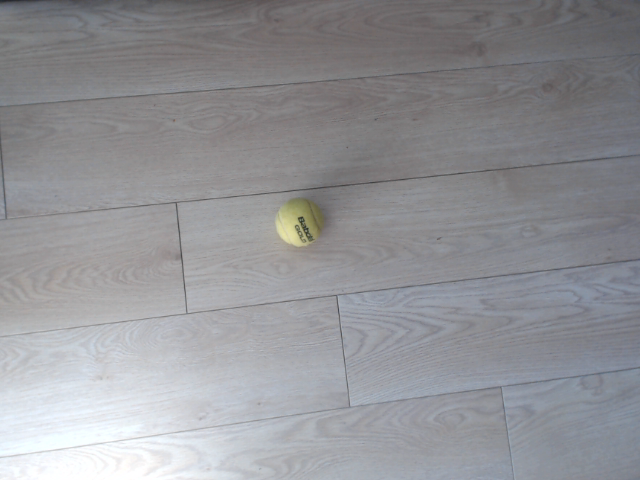ball: (274, 196, 326, 249)
